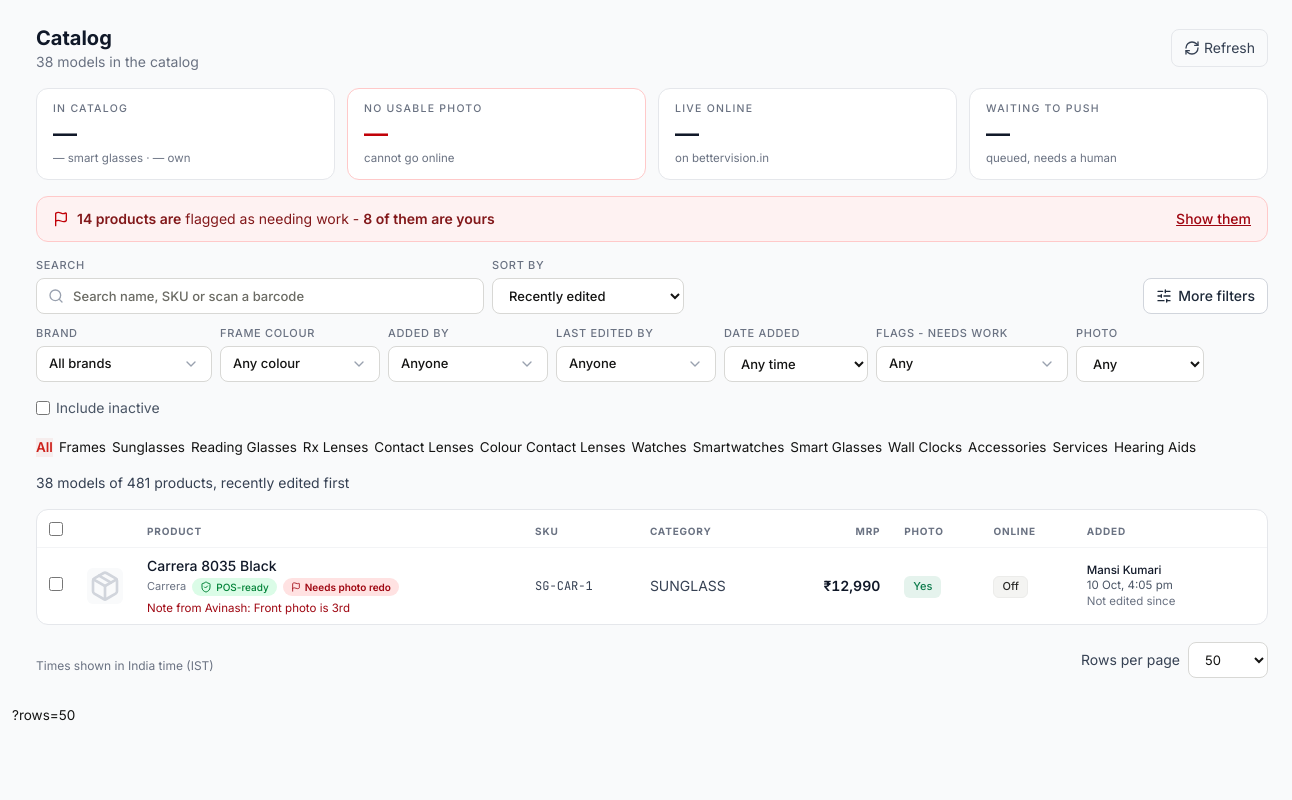
Test: who sees which bulk button › a store manager can flag but not archive
Expected: the table with test id "catalog-table" is shown, [37, 510, 1267, 624]
Click the checkbox named "Select Carrera 8035 Black". click: (56, 585)
box: [49, 578, 63, 592]
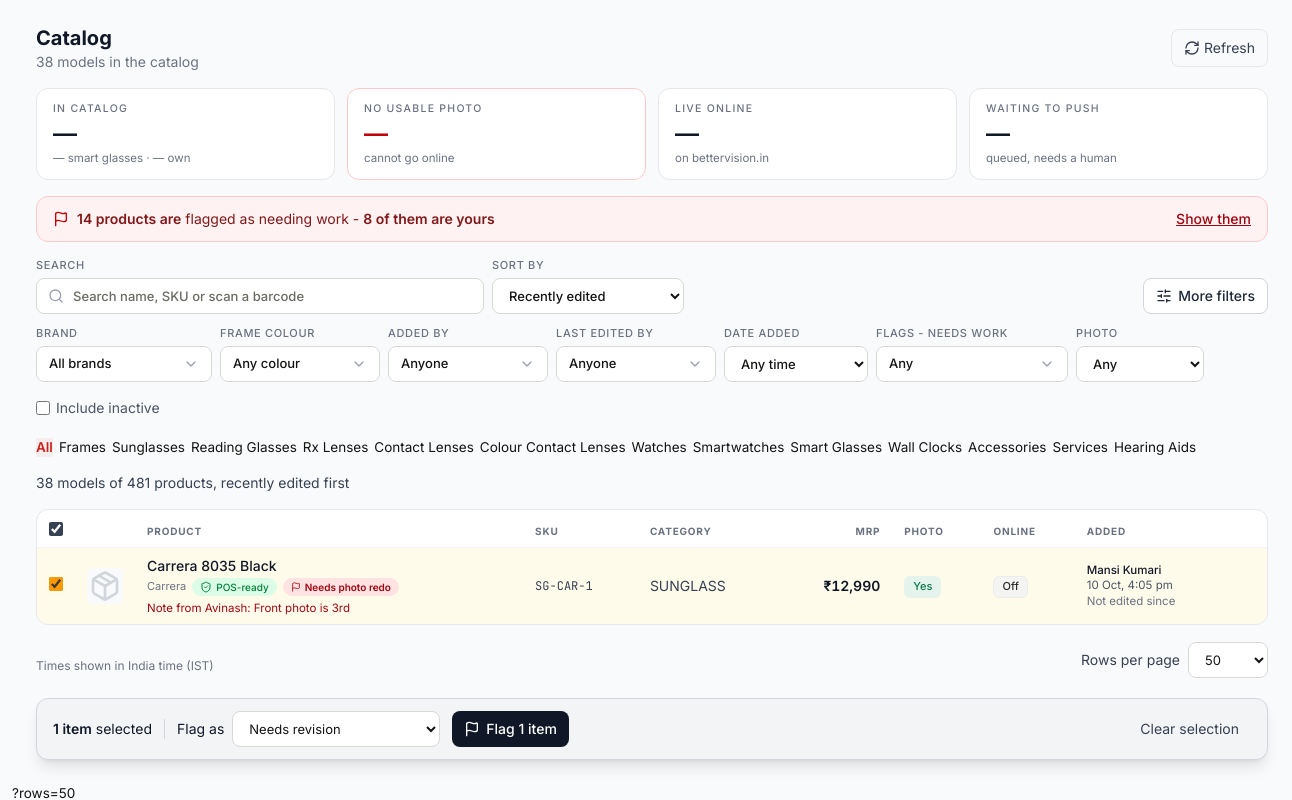
Now the button "Flag 1 item" is shown, box [452, 711, 569, 747]
